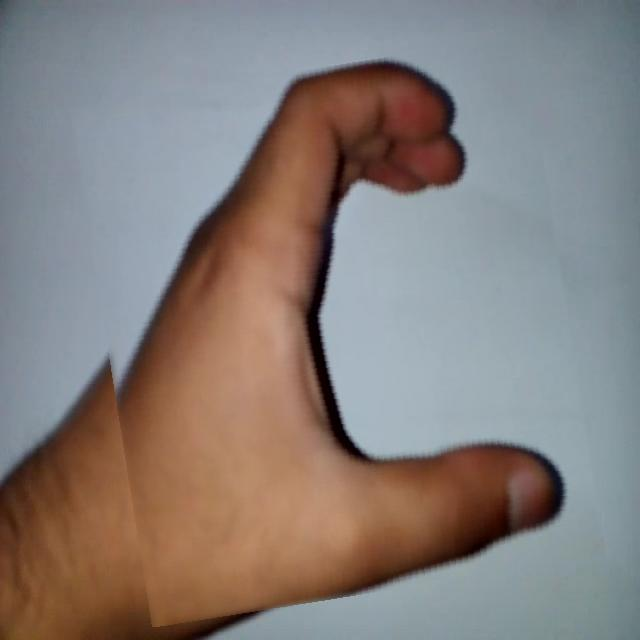C: (90, 52, 588, 611)
